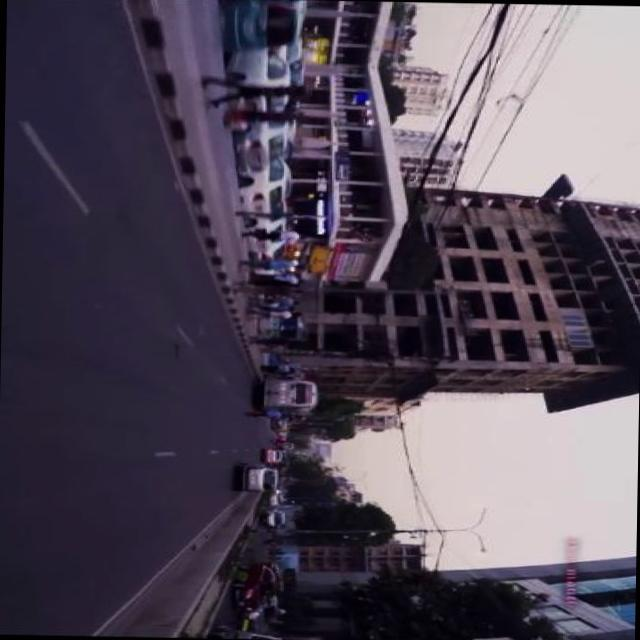bus: (264, 378, 322, 416)
car: (236, 48, 294, 110), (243, 112, 290, 172), (244, 158, 292, 212), (238, 562, 280, 610), (254, 212, 291, 250), (240, 462, 281, 492), (254, 238, 290, 266), (266, 448, 286, 460)
